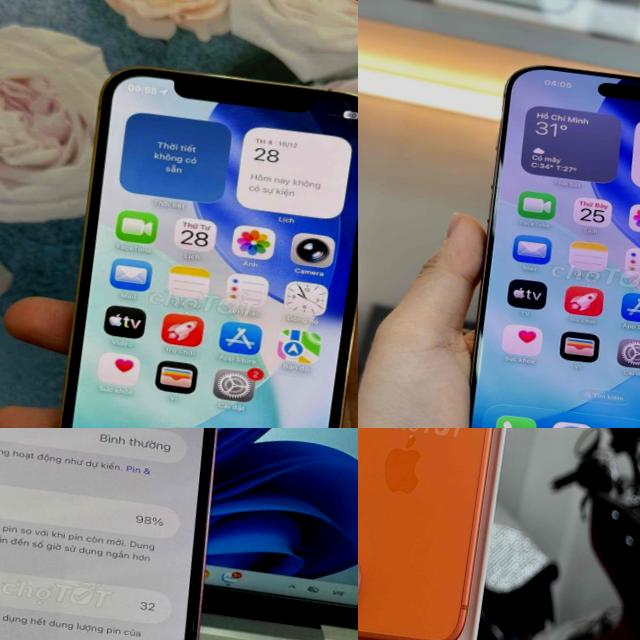gen_12_13: (41, 59, 358, 428)
gen_16: (426, 33, 640, 428), (0, 428, 268, 640)
gen_17: (358, 428, 536, 640)
